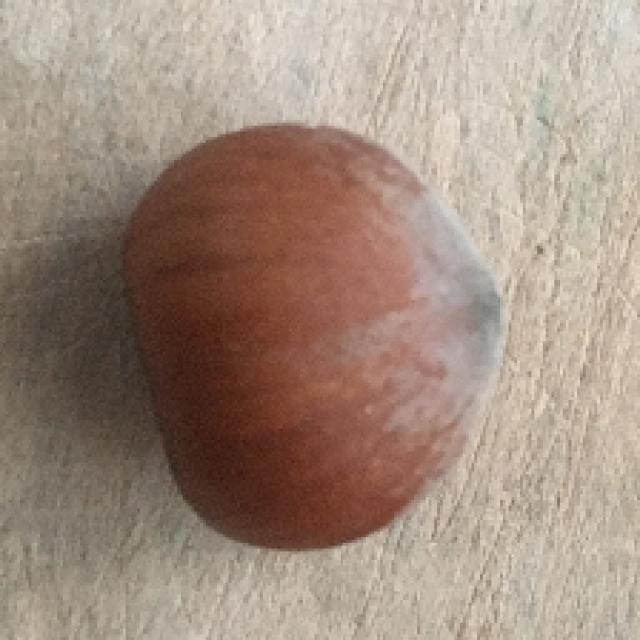QualityHazelnut: (123, 120, 517, 554)
